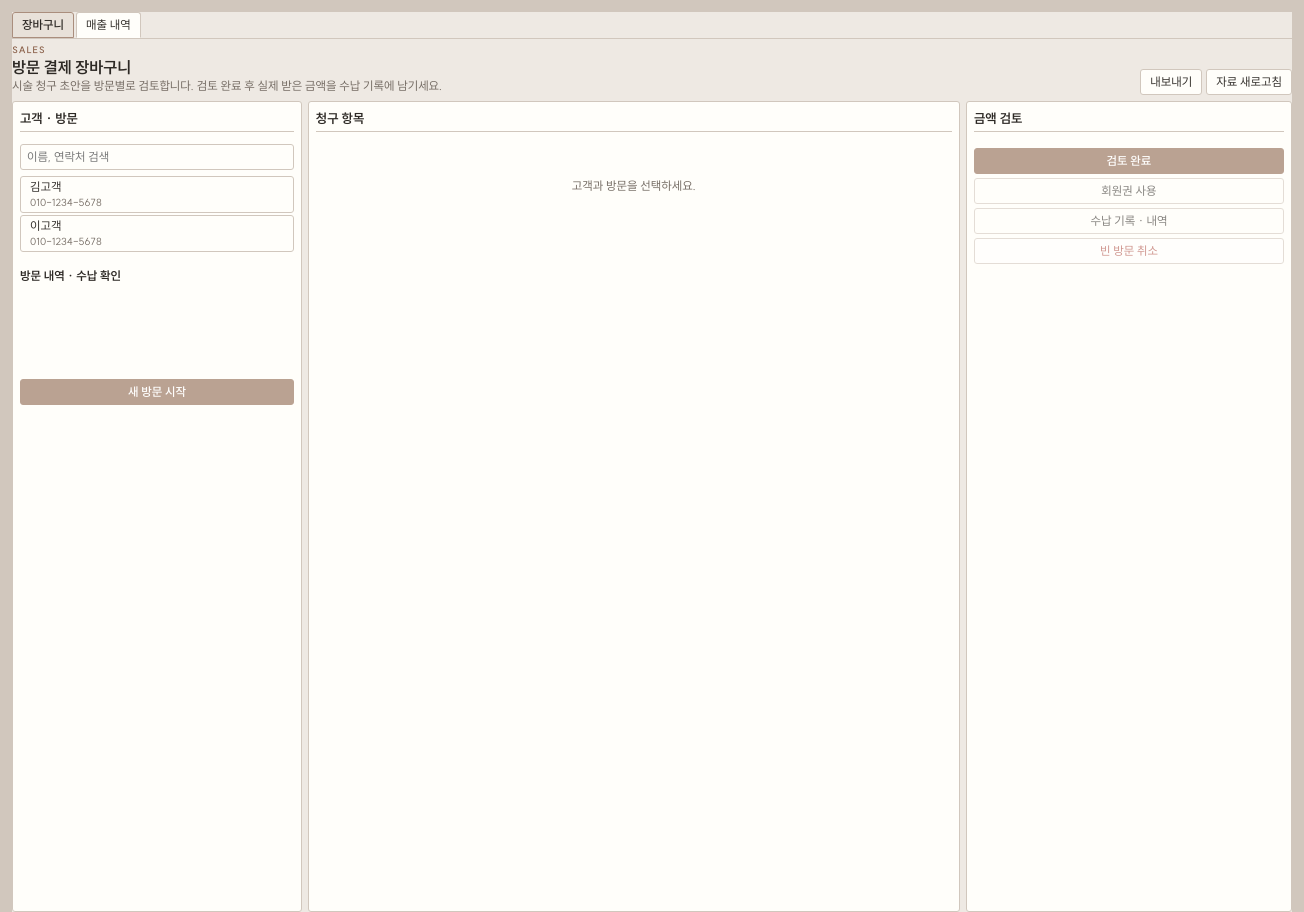
Test case: SalesPage 방문 장바구니 › 충돌(409)은 안내하고 재시도 대신 새로고침을 유도한다
Click the button "김고객 010-1234-5678": (46, 187) [20,176,294,213]
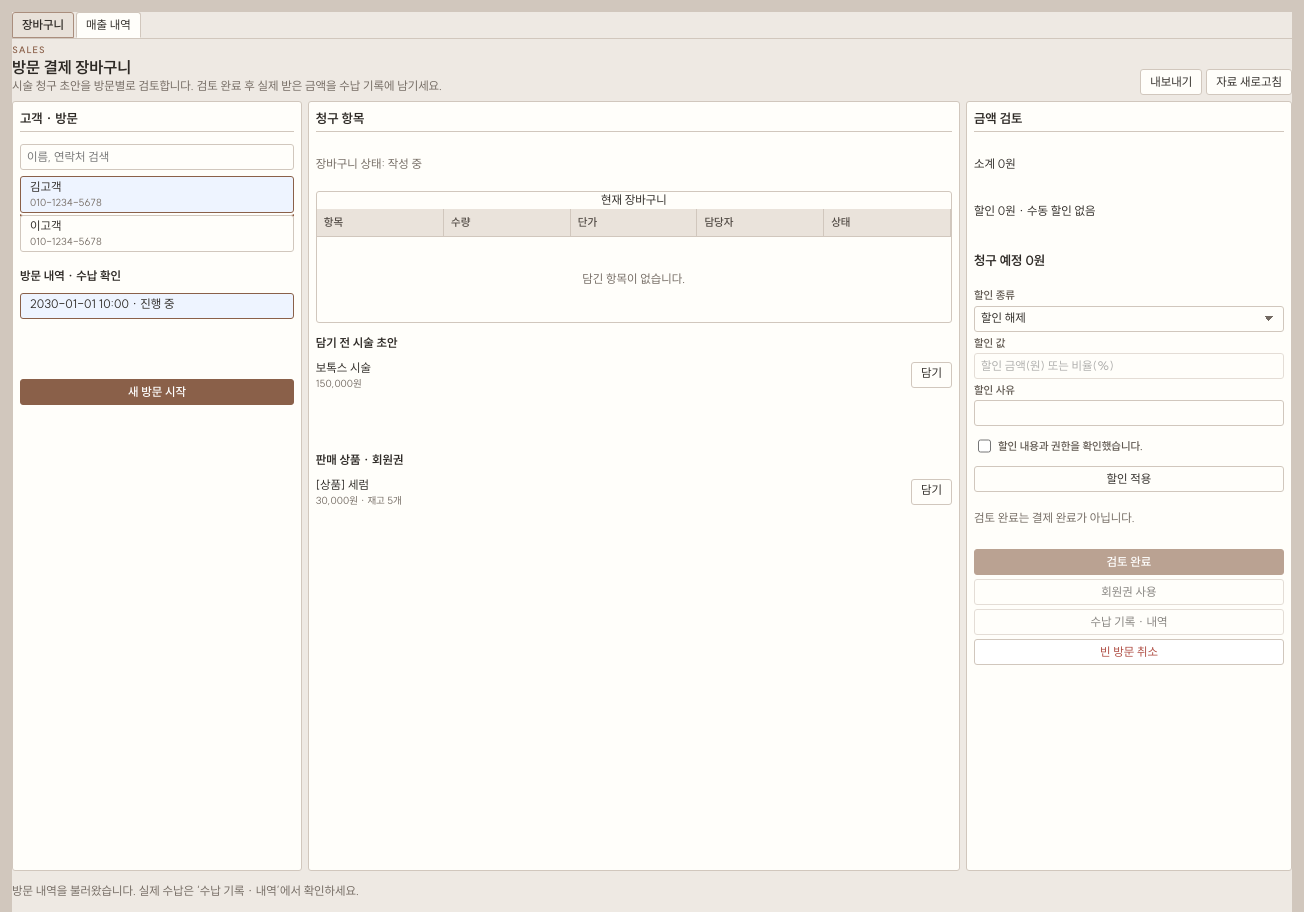
Expected: the text "소계 0원" is shown, [974,156,1016,171]
Click the button with aria-label "시술 초안 담기 보톡스 시술": (932, 376) [911,362,952,388]
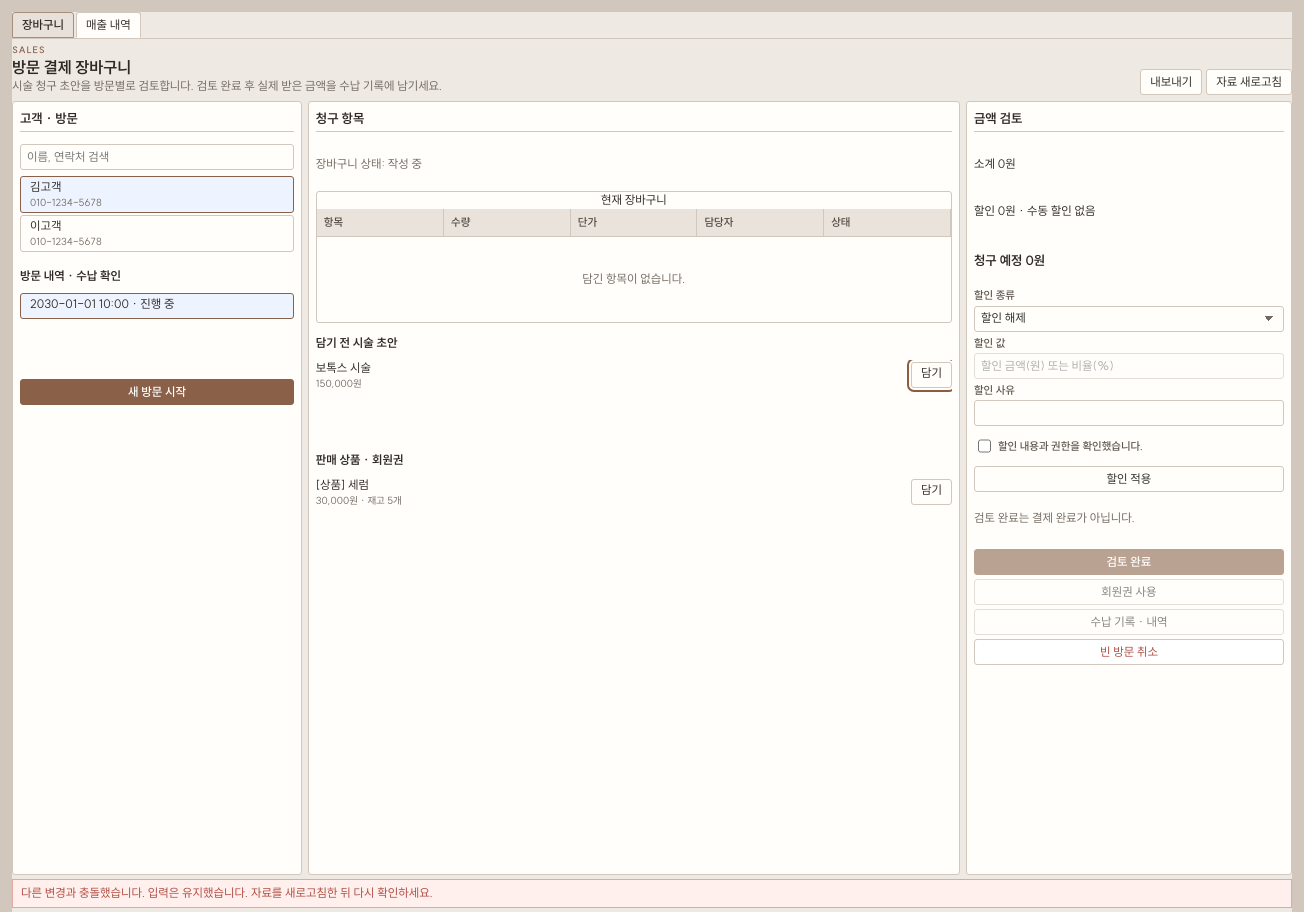
Expected: the text "다른 변경과 충돌했습니다. 입력은 유지했습니다. 자료를 새로고침한 뒤 다시 확인하세요." is shown, [12,879,1292,908]
Click the button with aria-label "시술 초안 담기 보톡스 시술": (932, 376) [911,362,952,388]
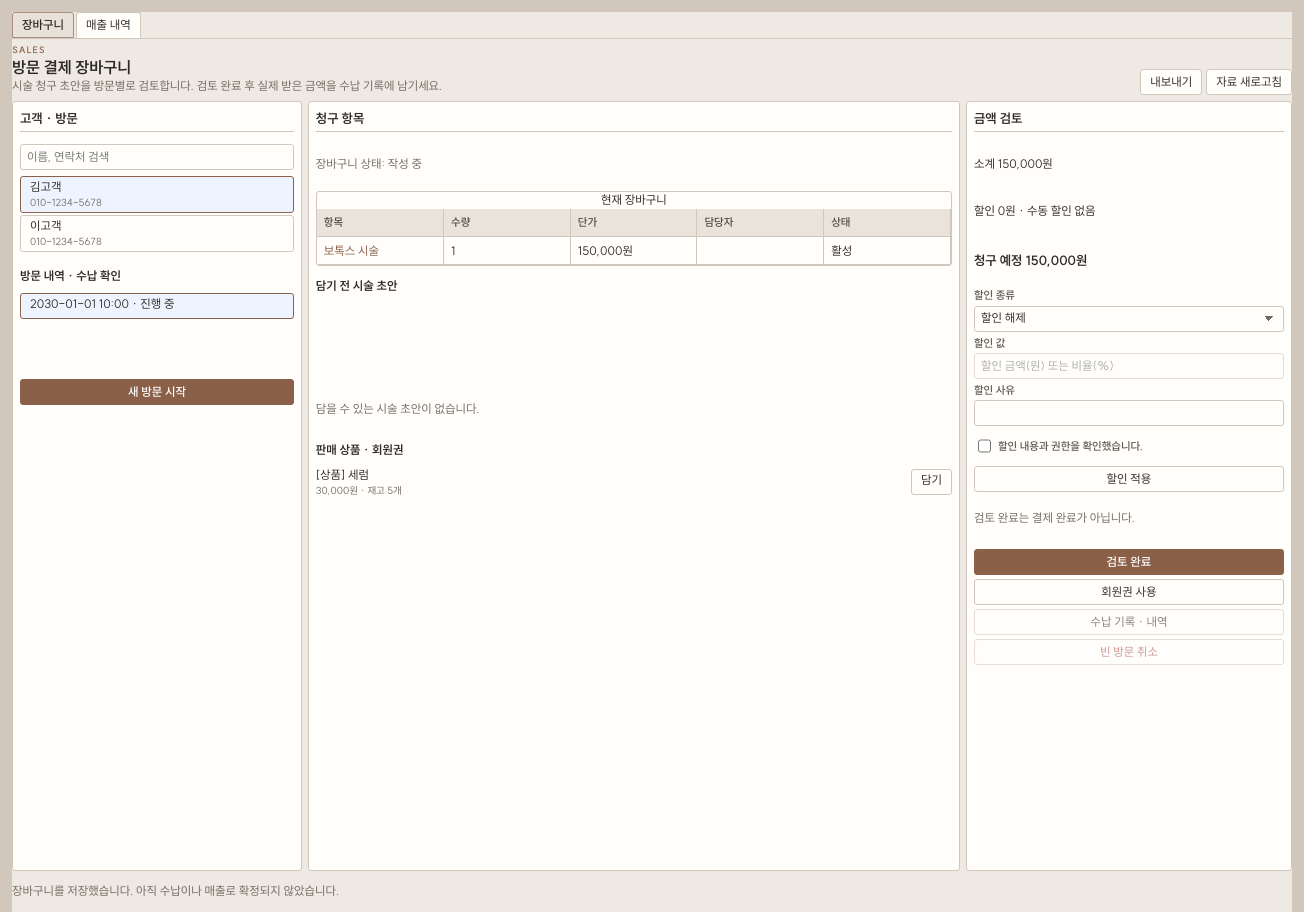
Expected: the text with test id "subtotal" shows "150,000원", [998,156,1053,171]
